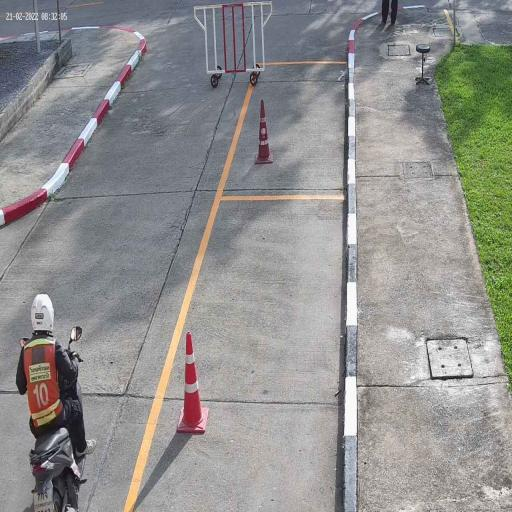motorcycle: (29, 350, 85, 512)
